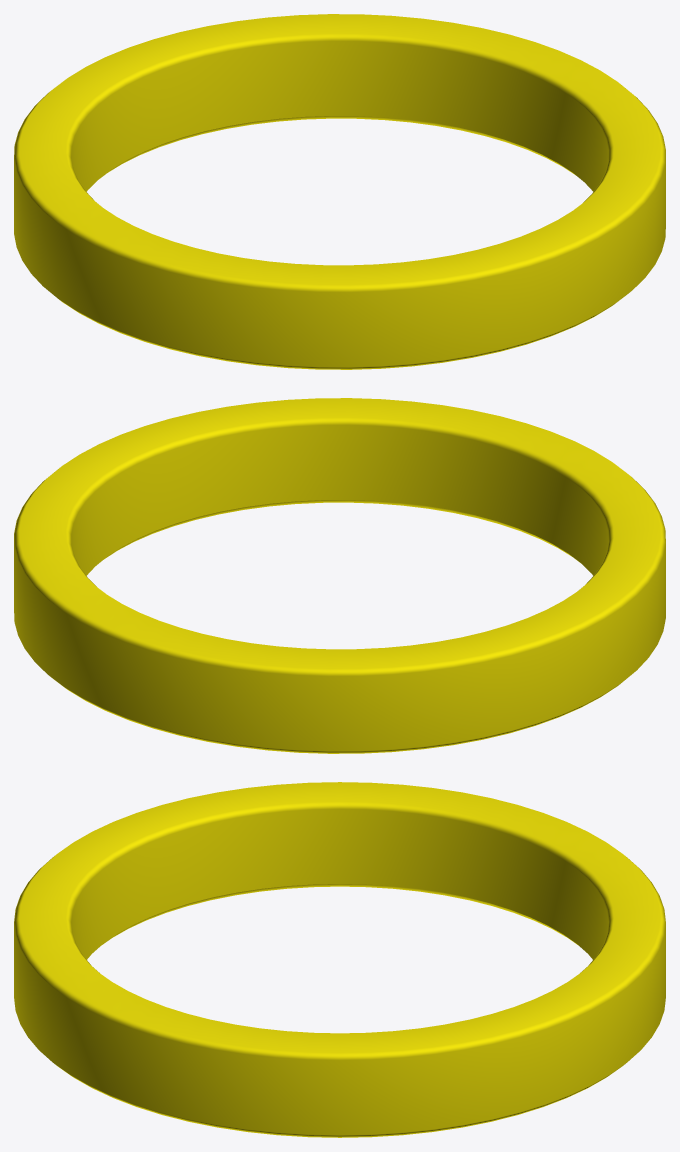
3 views of the same model, one above another, from view 1: azimuth 30°, elevation 25°; view 2: azimuth 150°, elevation 25°; view 3: azimuth 270°, elevation 25° (orthographic).
Parts seen in each view (by area): view 1: seal_body; view 2: seal_body; view 3: seal_body.
Boxes of the visible parts, <box> form: seal_body: <box>14,14,665,369</box>; seal_body: <box>14,398,665,753</box>; seal_body: <box>14,782,665,1137</box>.
Size of the model in its own units: 0.054 by 0.00776 by 0.054.
